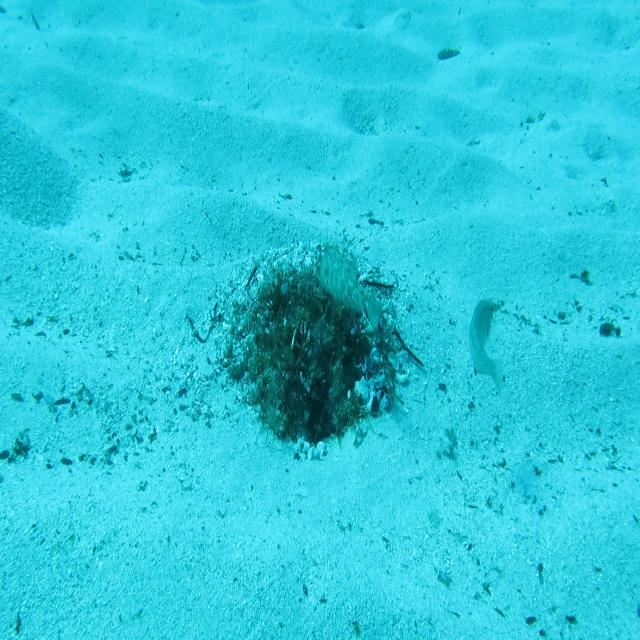INSF: (312, 243, 384, 339)
core_nest: (283, 292, 338, 326)
female: (468, 292, 508, 395)
nest: (207, 237, 413, 468)
vegetation: (437, 45, 463, 66)
